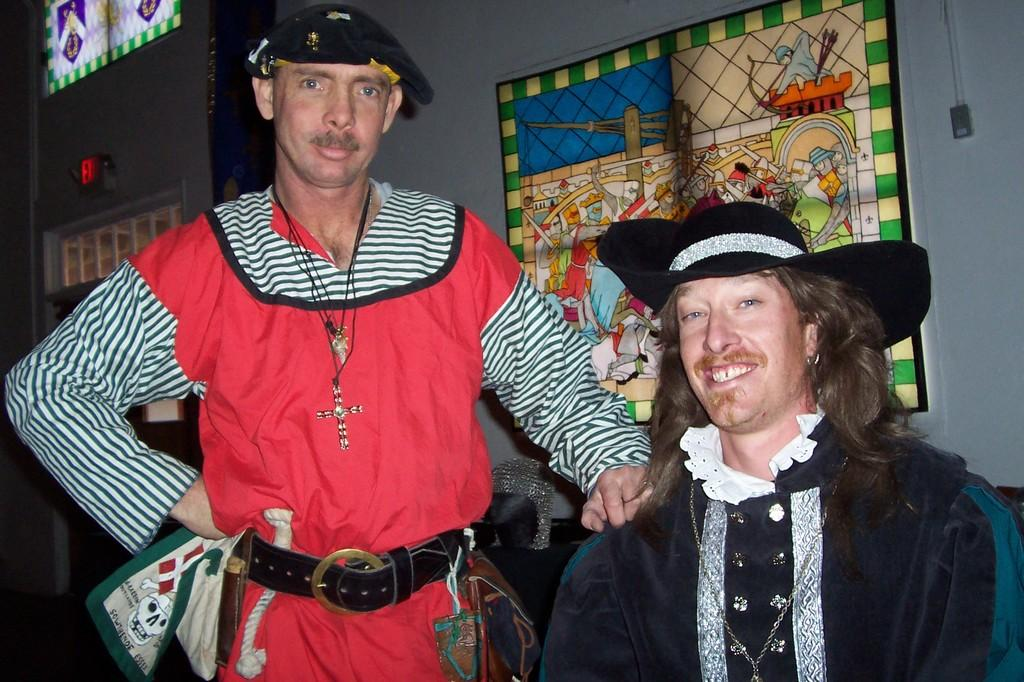Hat: (598, 201, 930, 352)
